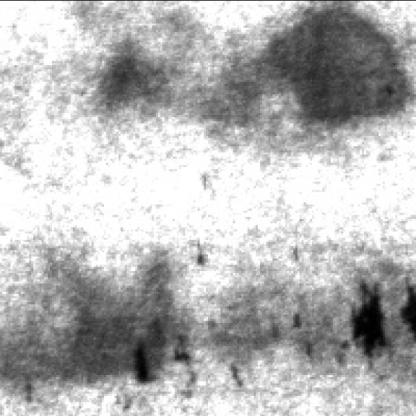inclusion: (345, 278, 410, 360)
patches: (11, 262, 196, 389), (237, 0, 408, 127), (88, 36, 168, 107)
